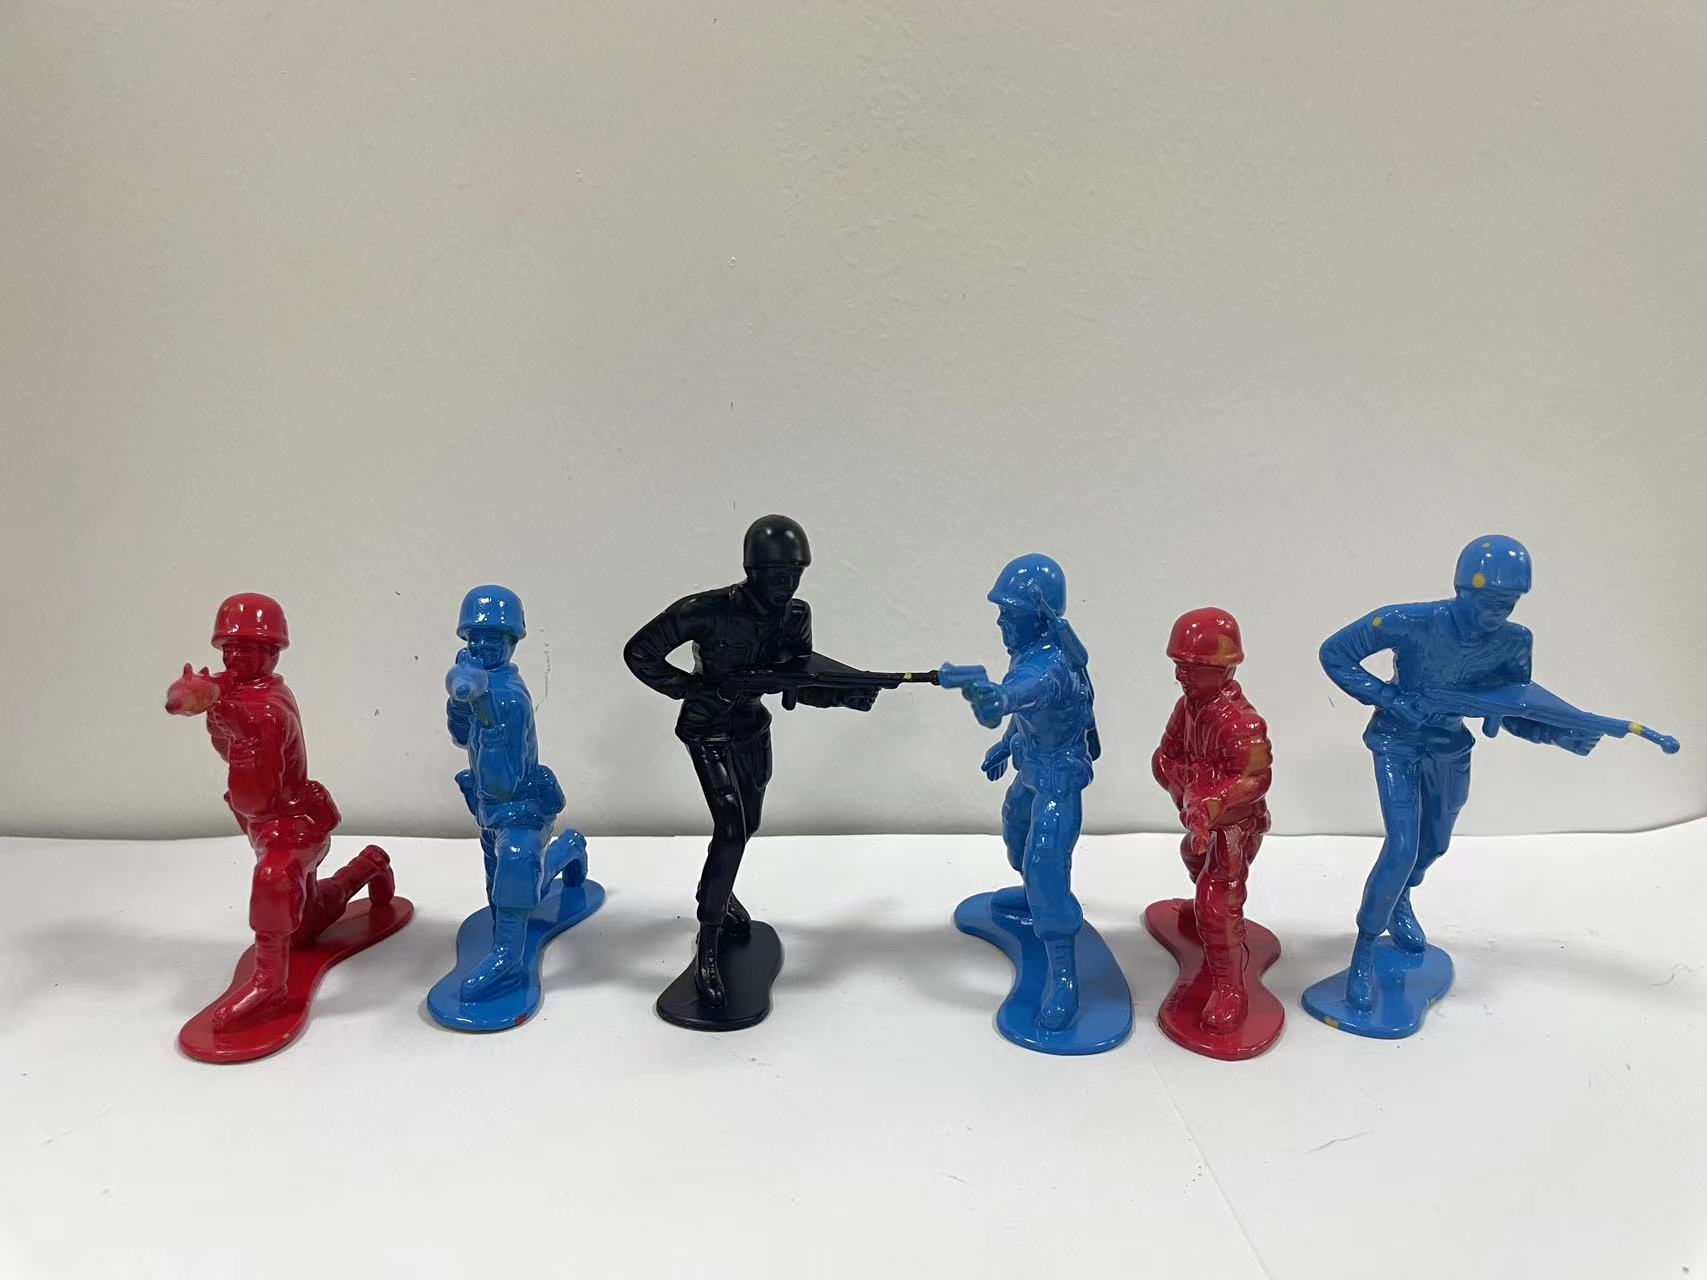black: (610, 463, 931, 1116)
blue: (1310, 507, 1671, 1140), (907, 516, 1137, 1080), (415, 558, 630, 1086)
red: (145, 579, 413, 1086), (1142, 567, 1310, 1111)
